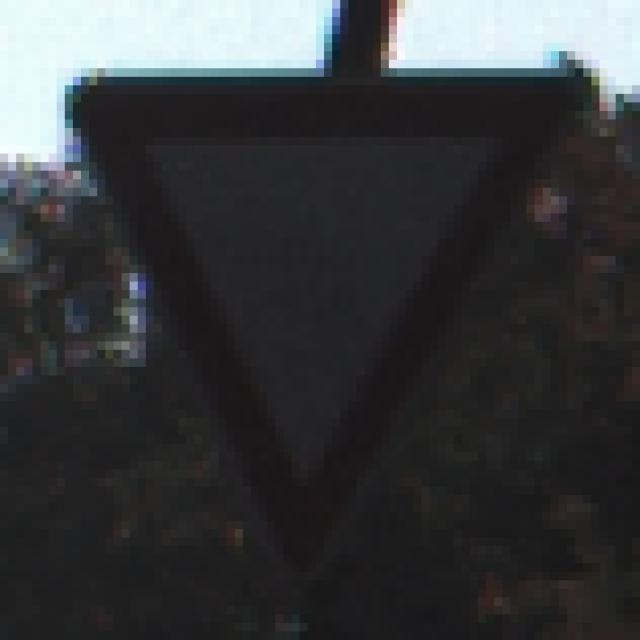Give Way: (58, 61, 584, 590)
